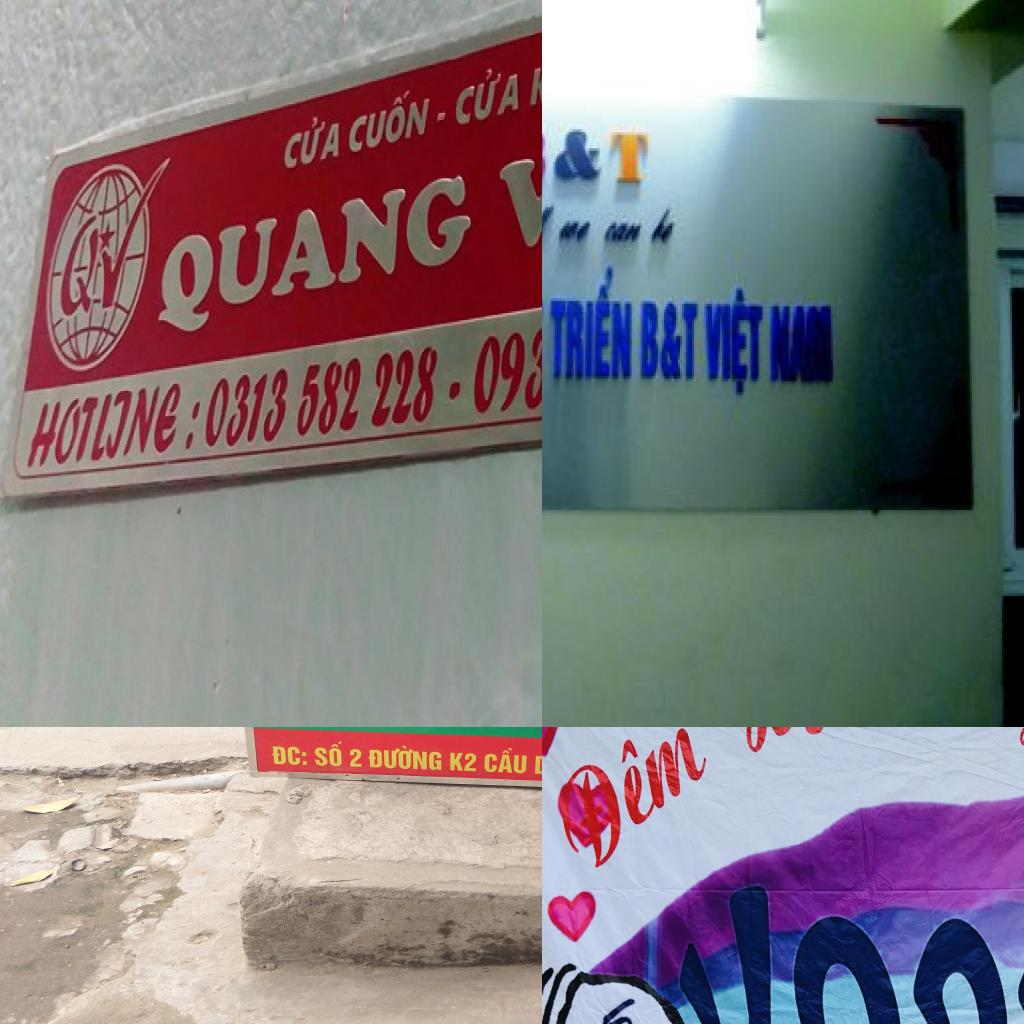text: (154, 164, 479, 345), (647, 878, 1024, 1024), (542, 727, 716, 887), (199, 341, 442, 455), (20, 372, 210, 472), (547, 264, 640, 382), (468, 286, 542, 421), (344, 79, 437, 161), (702, 285, 767, 400), (718, 727, 862, 771), (768, 304, 837, 387), (638, 296, 702, 384), (450, 62, 522, 130), (279, 109, 343, 175), (551, 124, 610, 186), (607, 124, 654, 191), (593, 982, 665, 1024), (366, 744, 442, 772), (599, 215, 650, 250), (555, 215, 602, 250), (481, 746, 529, 776), (312, 741, 344, 767), (268, 744, 302, 766), (448, 752, 478, 774), (542, 204, 557, 244), (348, 749, 364, 769), (301, 752, 308, 766)
